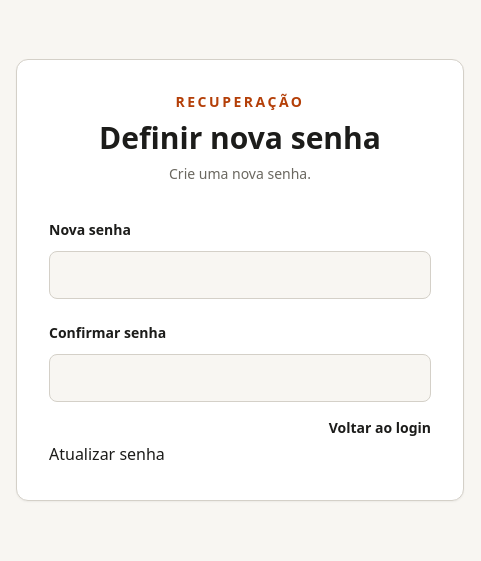
Test case: ResetPasswordPage › maps generic 422 reset failures to the generic message
The width and height of the screenshot is (481, 561).
Type "Password123" into the password field labelled "Nova senha".
click(240, 275); type("Password123")  # box [49,251,431,299]
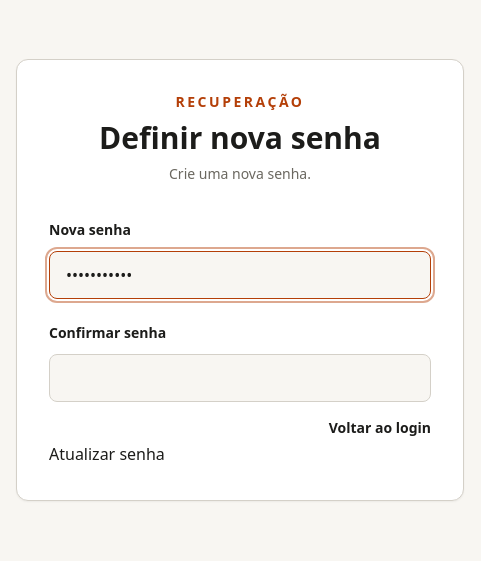
Type "Password123" into the password field labelled "Confirmar senha".
click(240, 378); type("Password123")  # box [49,354,431,402]
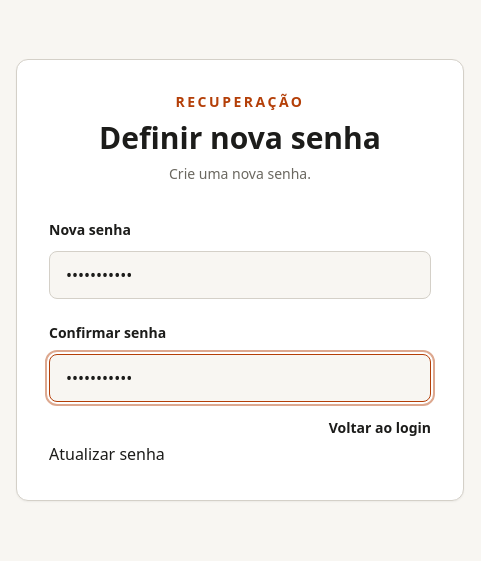
Click the button "Atualizar senha".
click(107, 455)  # box [49,441,165,468]
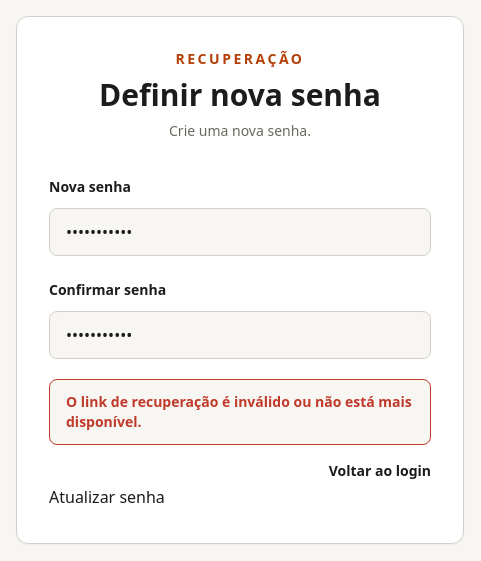
Result: the text "O link de recuperação é inválido ou não está mais disponível." is shown at [49,379,431,445]
